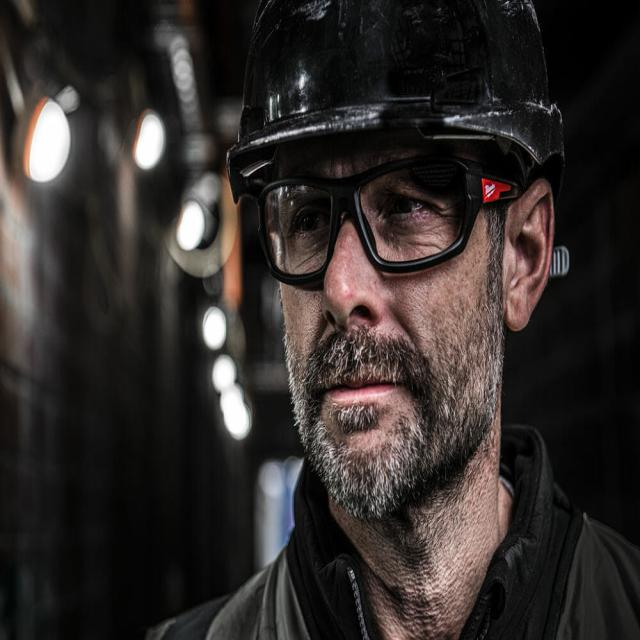goggles: (250, 178, 491, 274)
helmet: (230, 13, 570, 165)
